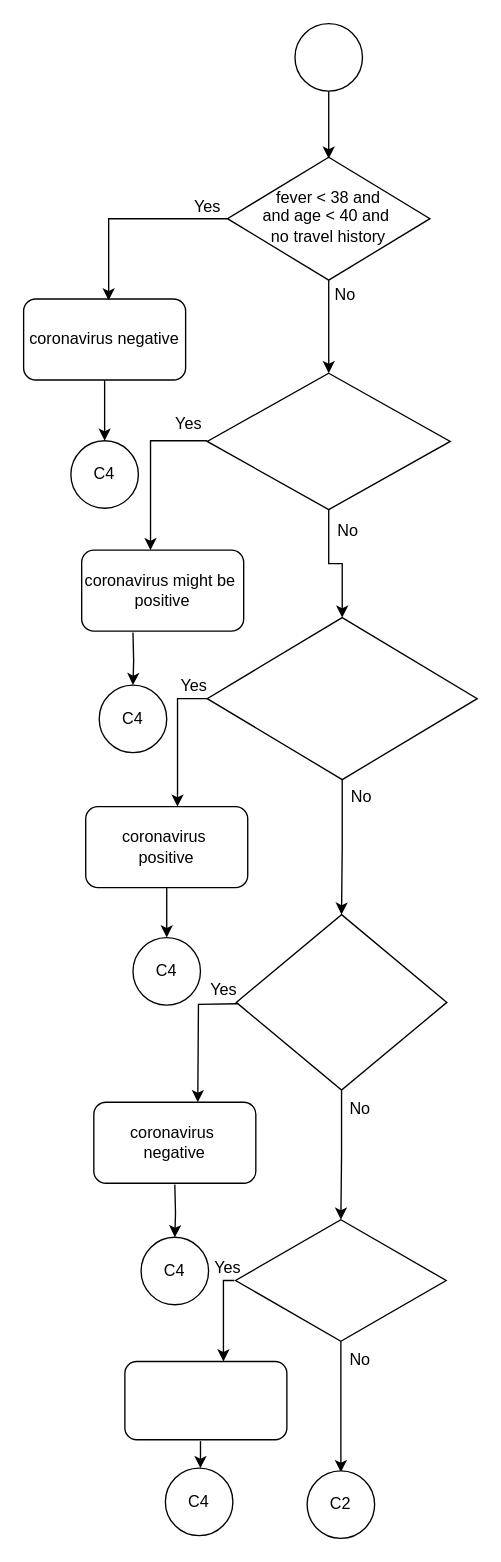
This 501x1562 diagram has some shape labels left out. Each missing label, with the centre of its shape:
"C1" goes at (328,56).
"flu and cough and sore throat" goes at (340,1279).
"loss of hearing and age > 50 and travel to infected country and fever > 38" goes at (341,698).
"no flu and no body ache and no cough and no sore throat" goes at (341,1001).
"sense_of_smell is lost and fever > 38 and chest is tight" goes at (328,441).
"take precautions" goes at (205,1400).
